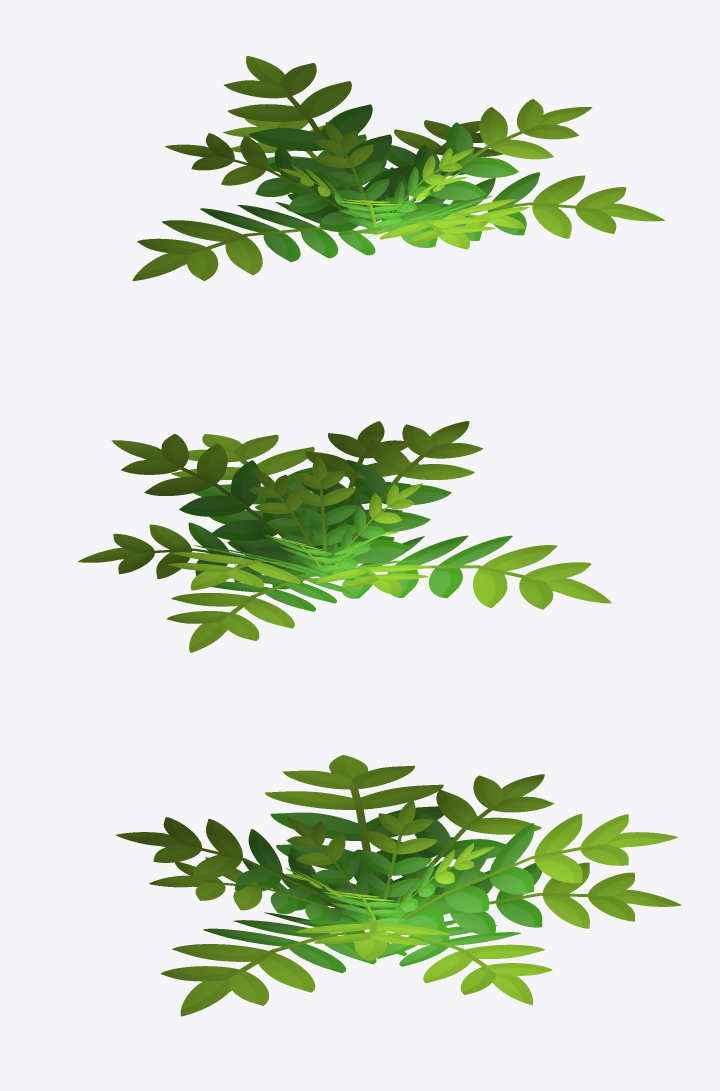
The model's file is JungleFern.fbx.
The picture shows the model from 3 angles, top to bottom: view 1: azimuth 30°, elevation 25°; view 2: azimuth 150°, elevation 25°; view 3: azimuth 270°, elevation 25°; orthographic projection. The views are drawn at different scales.
Parts seen in each view (by area): view 1: JungleFern; view 2: JungleFern; view 3: JungleFern.
Boxes of the visible parts, <box> form: JungleFern: <box>132,56,664,280</box>; JungleFern: <box>78,421,611,652</box>; JungleFern: <box>116,755,681,1016</box>.
Bounding box in the file's own units: 267 × 35.89 × 232.
